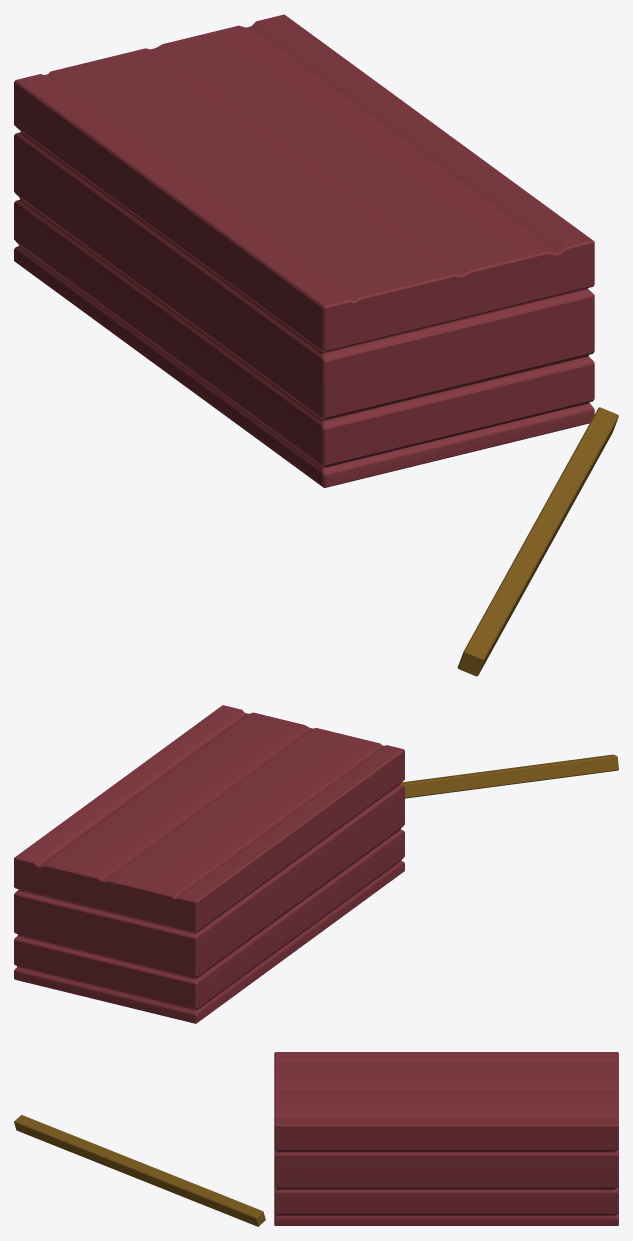
Rendered from Textured Demolished Market Stand 3.fbx.
3 views of the same model, one above another, from view 1: azimuth 30°, elevation 25°; view 2: azimuth 150°, elevation 25°; view 3: azimuth 270°, elevation 25° (orthographic). The views are drawn at different scales.
Visible parts, largest first — view 1: Market_Stand_Separate, pCube2; view 2: Market_Stand_Separate, pCube2; view 3: Market_Stand_Separate, pCube2.
Boxes of the visible parts, <box> form: Market_Stand_Separate: <box>14,14,594,487</box>; pCube2: <box>457,407,618,676</box>; Market_Stand_Separate: <box>14,705,404,1023</box>; pCube2: <box>400,754,618,798</box>; Market_Stand_Separate: <box>274,1052,618,1225</box>; pCube2: <box>14,1115,265,1226</box>.
Bounding box in the file's own units: 2.72 × 1.28 × 6.95.
